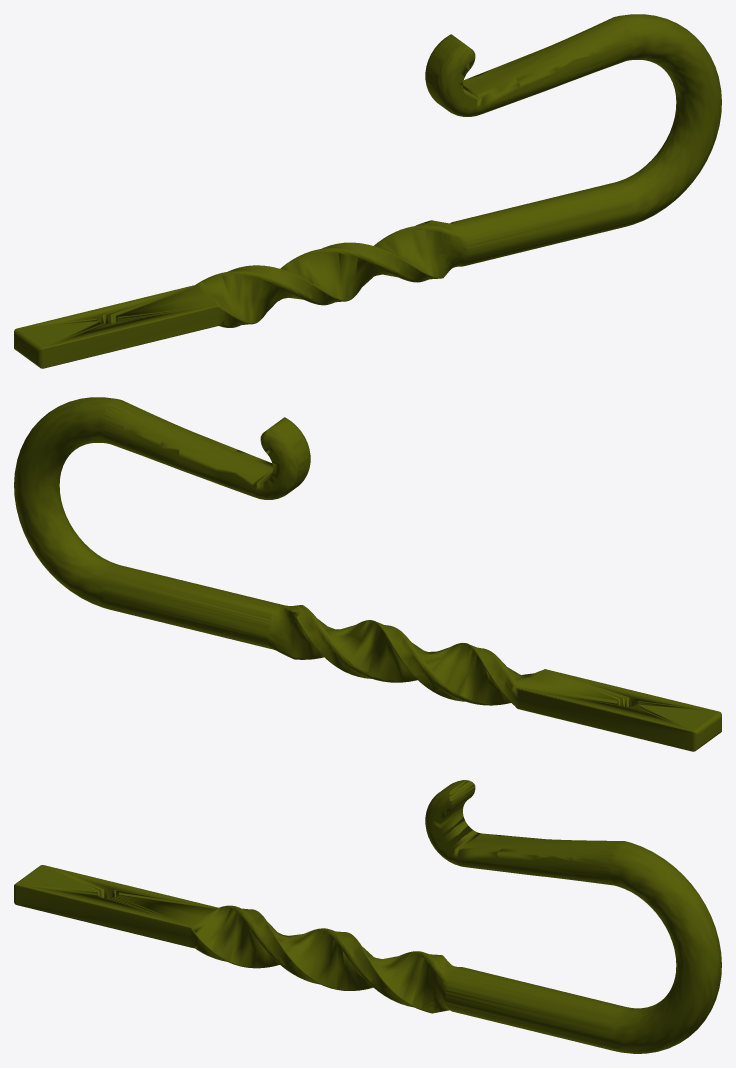
The model's file is Chain Bridge - Hook_v.obj.
3 renders of one model, top to bottom at view 1: azimuth 30°, elevation 25°; view 2: azimuth 150°, elevation 25°; view 3: azimuth 330°, elevation 25°, orthographic.
Bounding box in the file's own units: 175 × 55.61 × 12.78.
